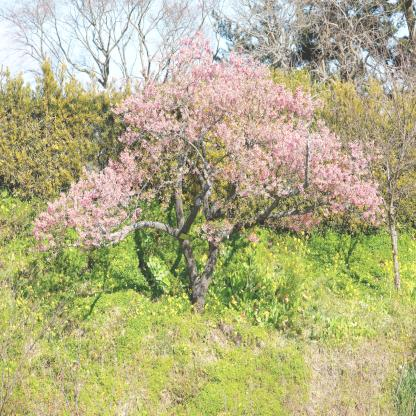KanhiSakura: (32, 30, 386, 261)
